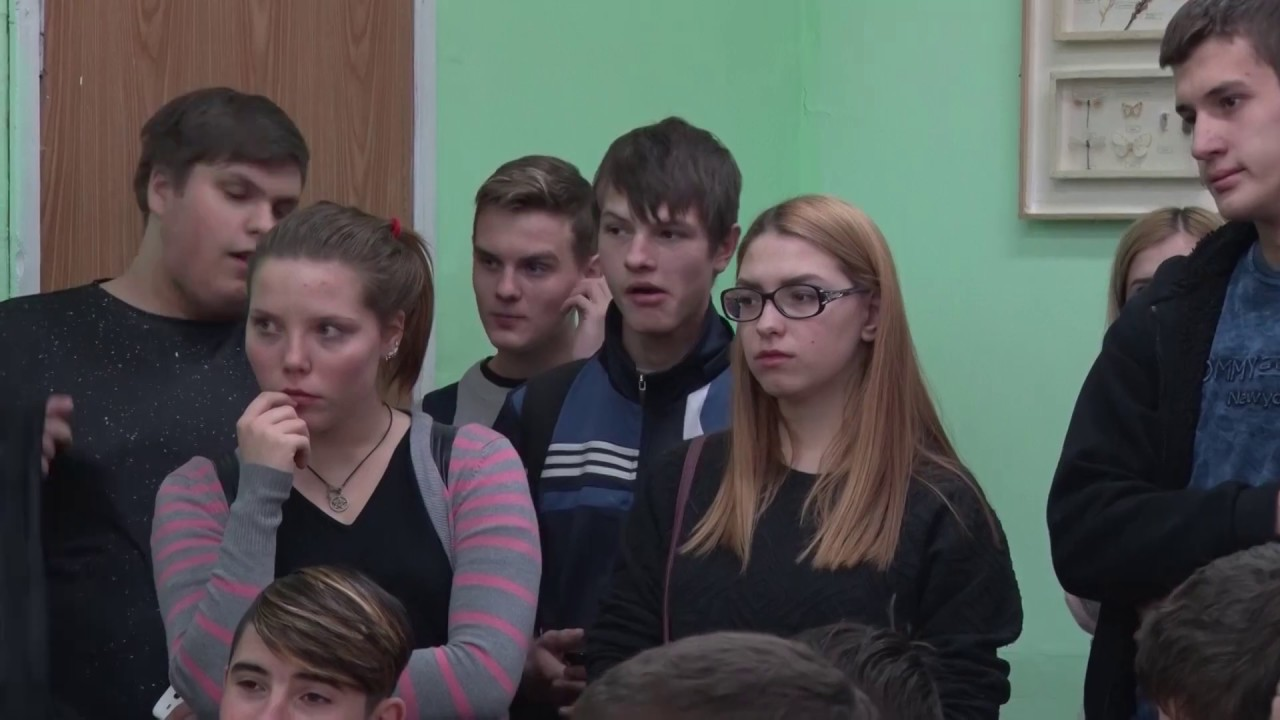students: (625, 191, 1025, 716), (150, 199, 544, 719), (1, 87, 311, 720), (1045, 1, 1278, 714), (492, 117, 743, 717), (415, 154, 611, 432), (215, 568, 408, 717), (1106, 204, 1228, 335)
